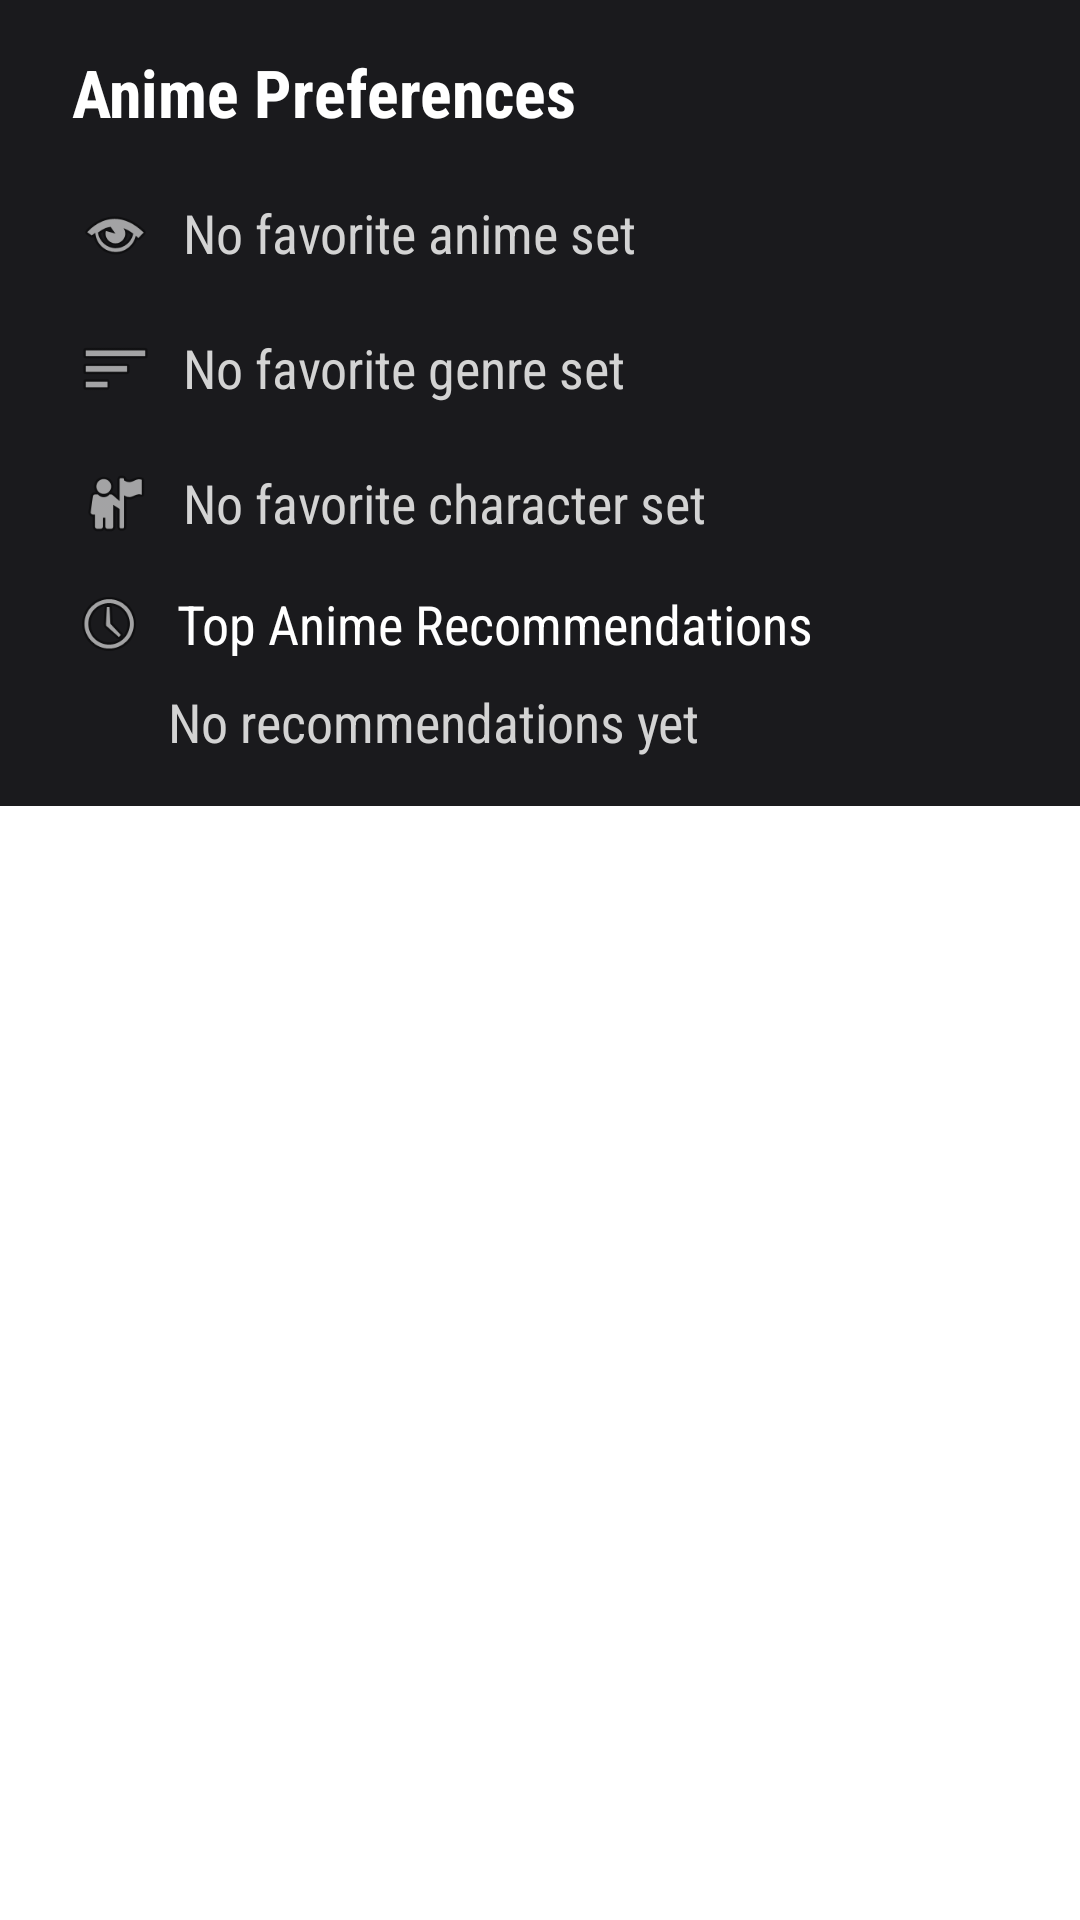

Point at icon controls on the screen. Image size 1080px x 1920px, points as (x,y).
myplaces: (116,503)
recent history: (109,624)
sort by size: (115,369)
view: (115,235)
